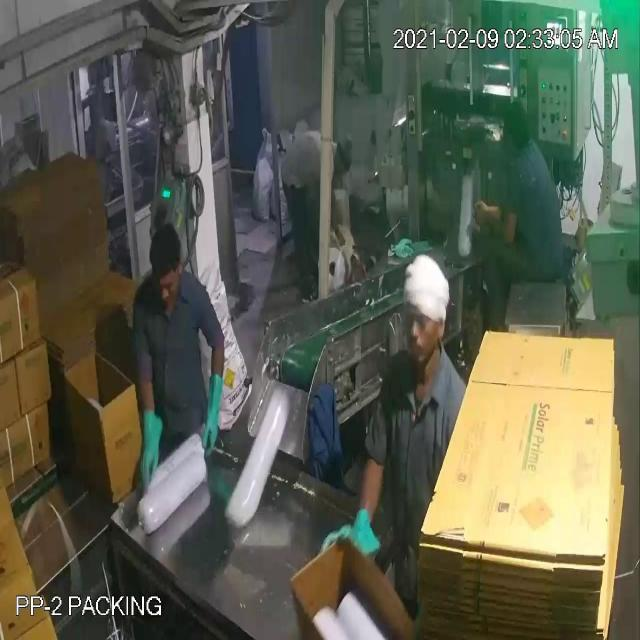Gloves: (42, 58, 494, 542)
